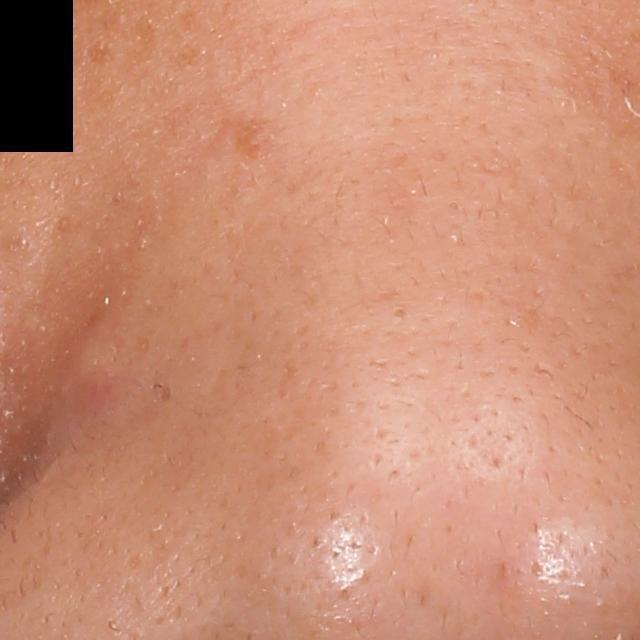comedo: (388, 305, 410, 322)
